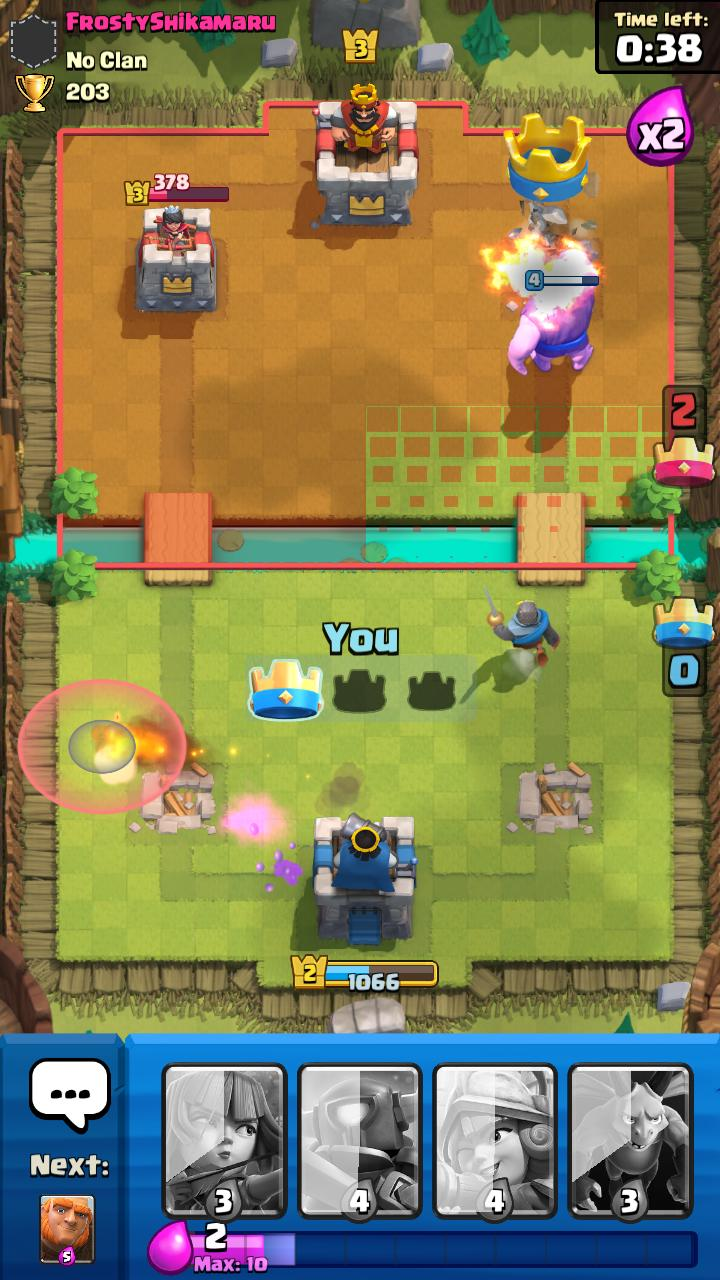ally: (508, 249, 599, 375), (484, 587, 560, 667)
